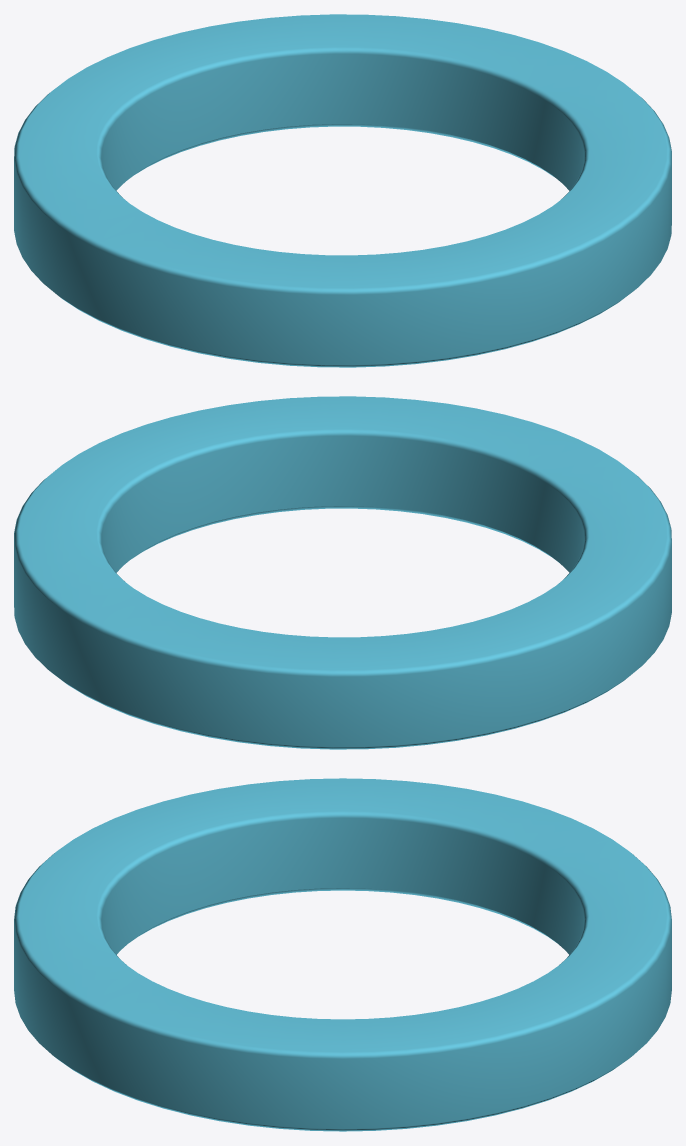
The picture shows the model from 3 angles, top to bottom: view 1: azimuth 30°, elevation 25°; view 2: azimuth 150°, elevation 25°; view 3: azimuth 270°, elevation 25°; orthographic projection.
Visible parts, largest first — view 1: seal_body; view 2: seal_body; view 3: seal_body.
Boxes of the visible parts, x1,y1,x2,y2 form: seal_body: (14, 14, 671, 367); seal_body: (14, 396, 671, 749); seal_body: (14, 778, 671, 1131).
Bounding box in the file's own units: 0.0476 × 0.00635 × 0.0476.
